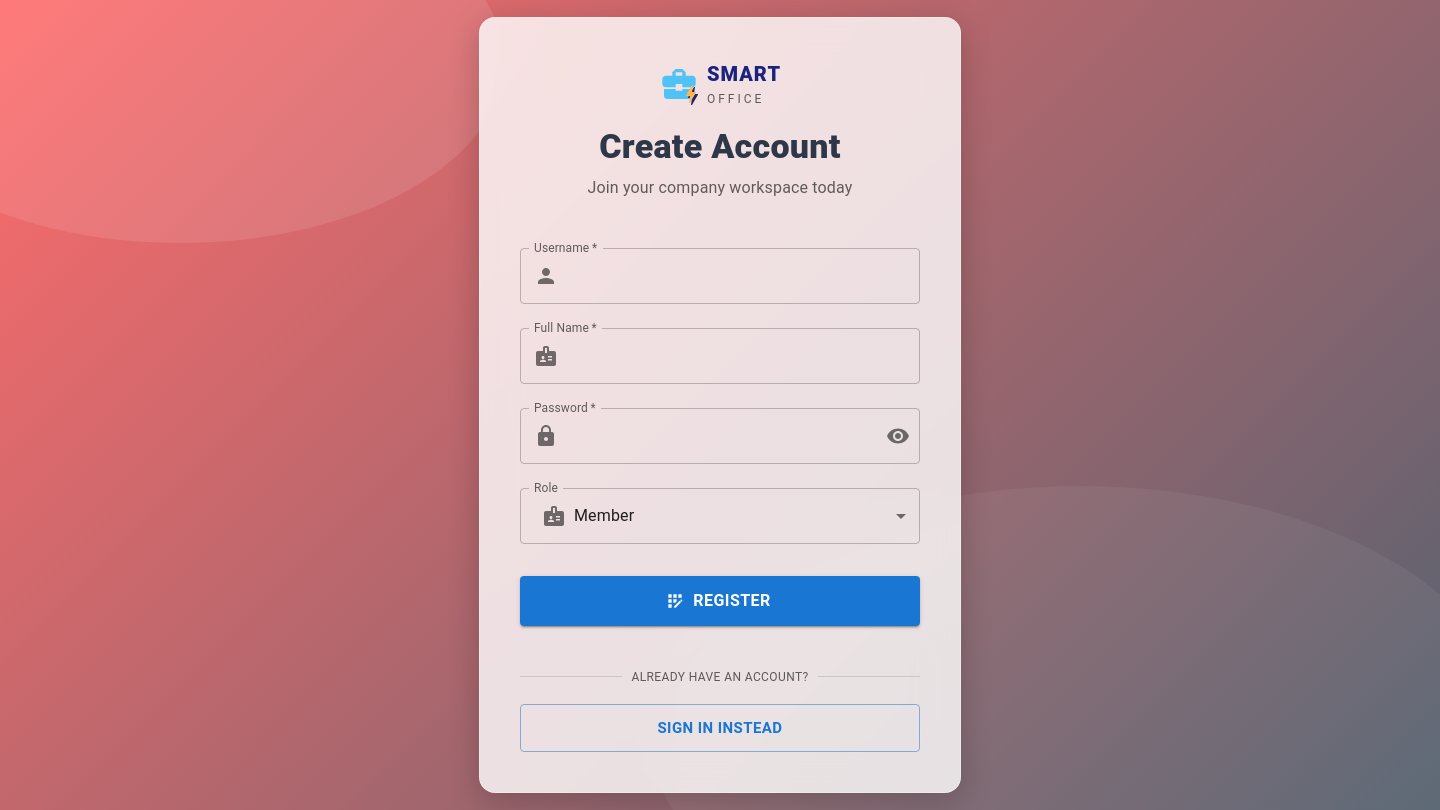
it: RegisterPage › should show specific validation errors when fields are empty
What coordinates should you click on to do the following:
click the button "Register"
I would click on:
 (720, 601)
Its box is [520,576,920,626].
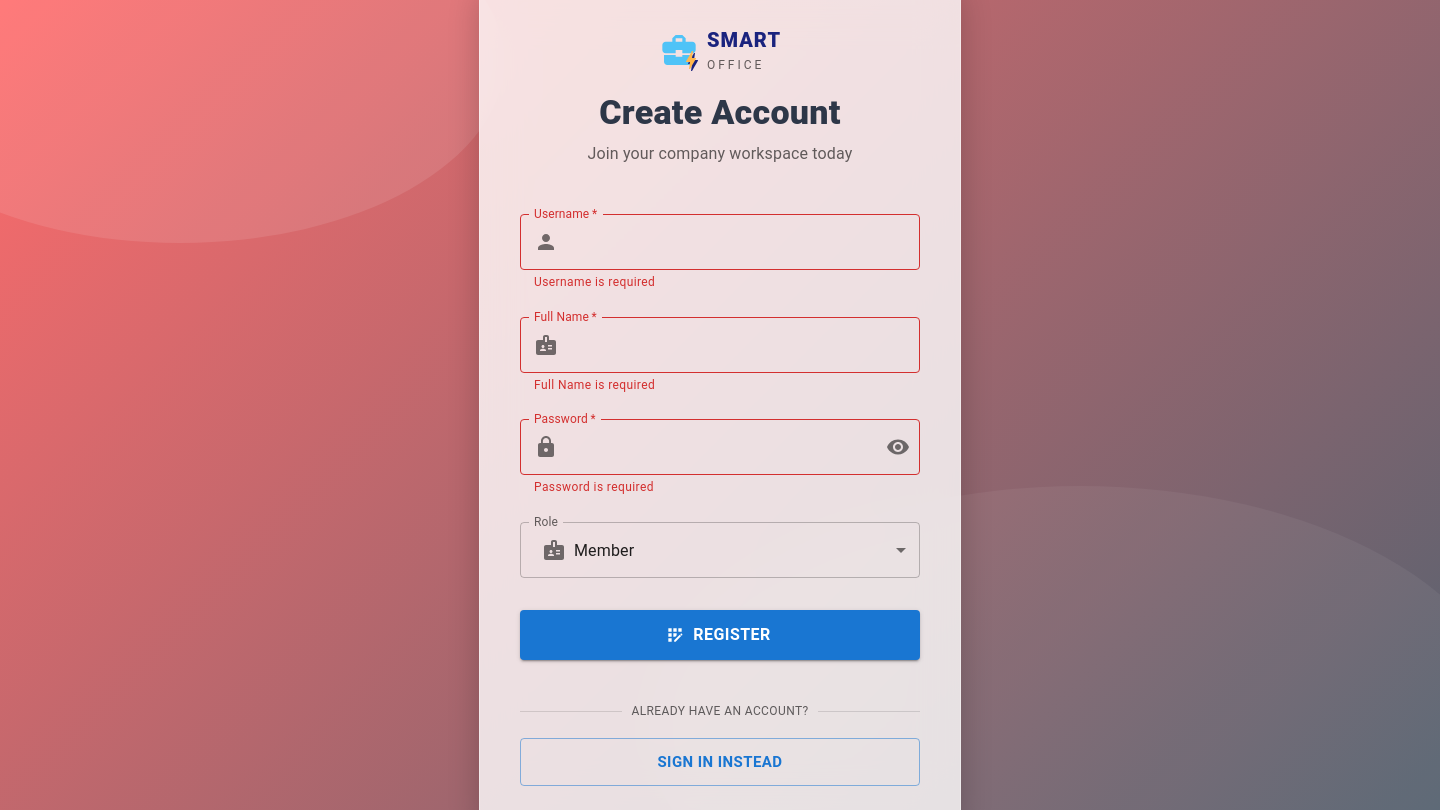
Check: the text "Username is required" is shown, box [534,275,655,289]
Check: the text "Full Name is required" is shown, box [534,378,655,392]
Check: the text "Password is required" is shown, box [534,480,654,494]
